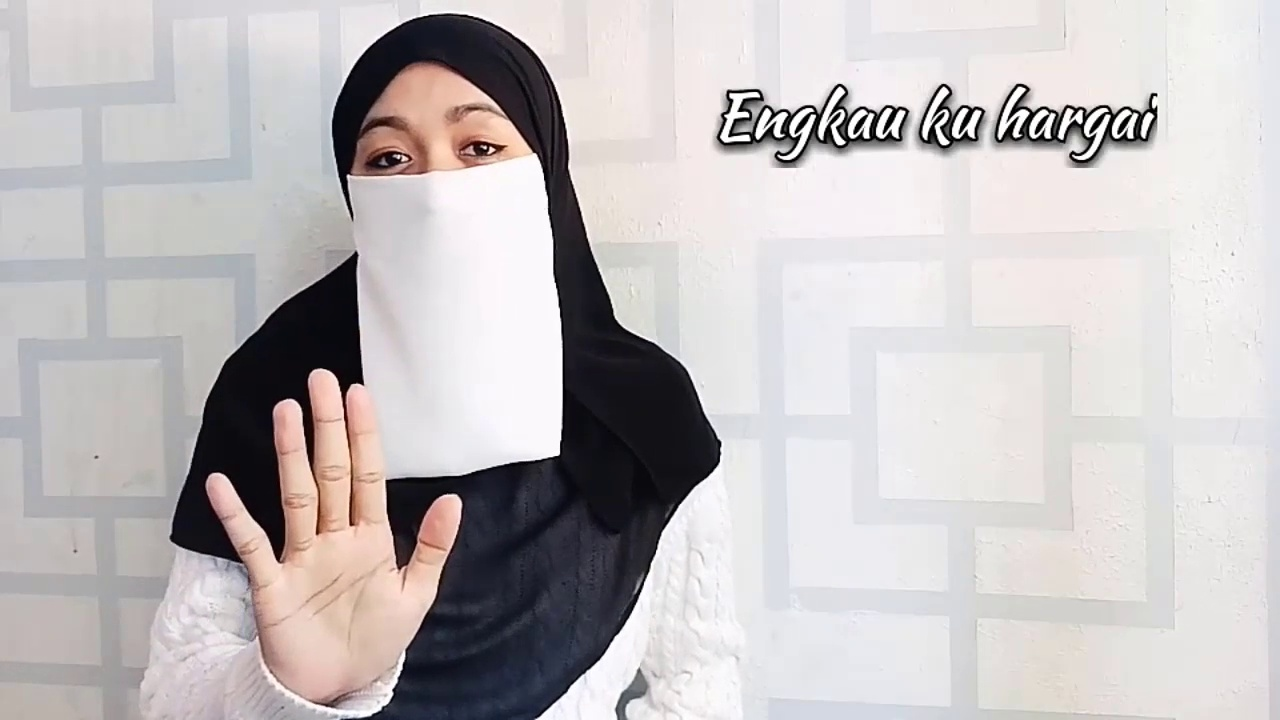ENGKAU: (175, 305, 521, 720)
